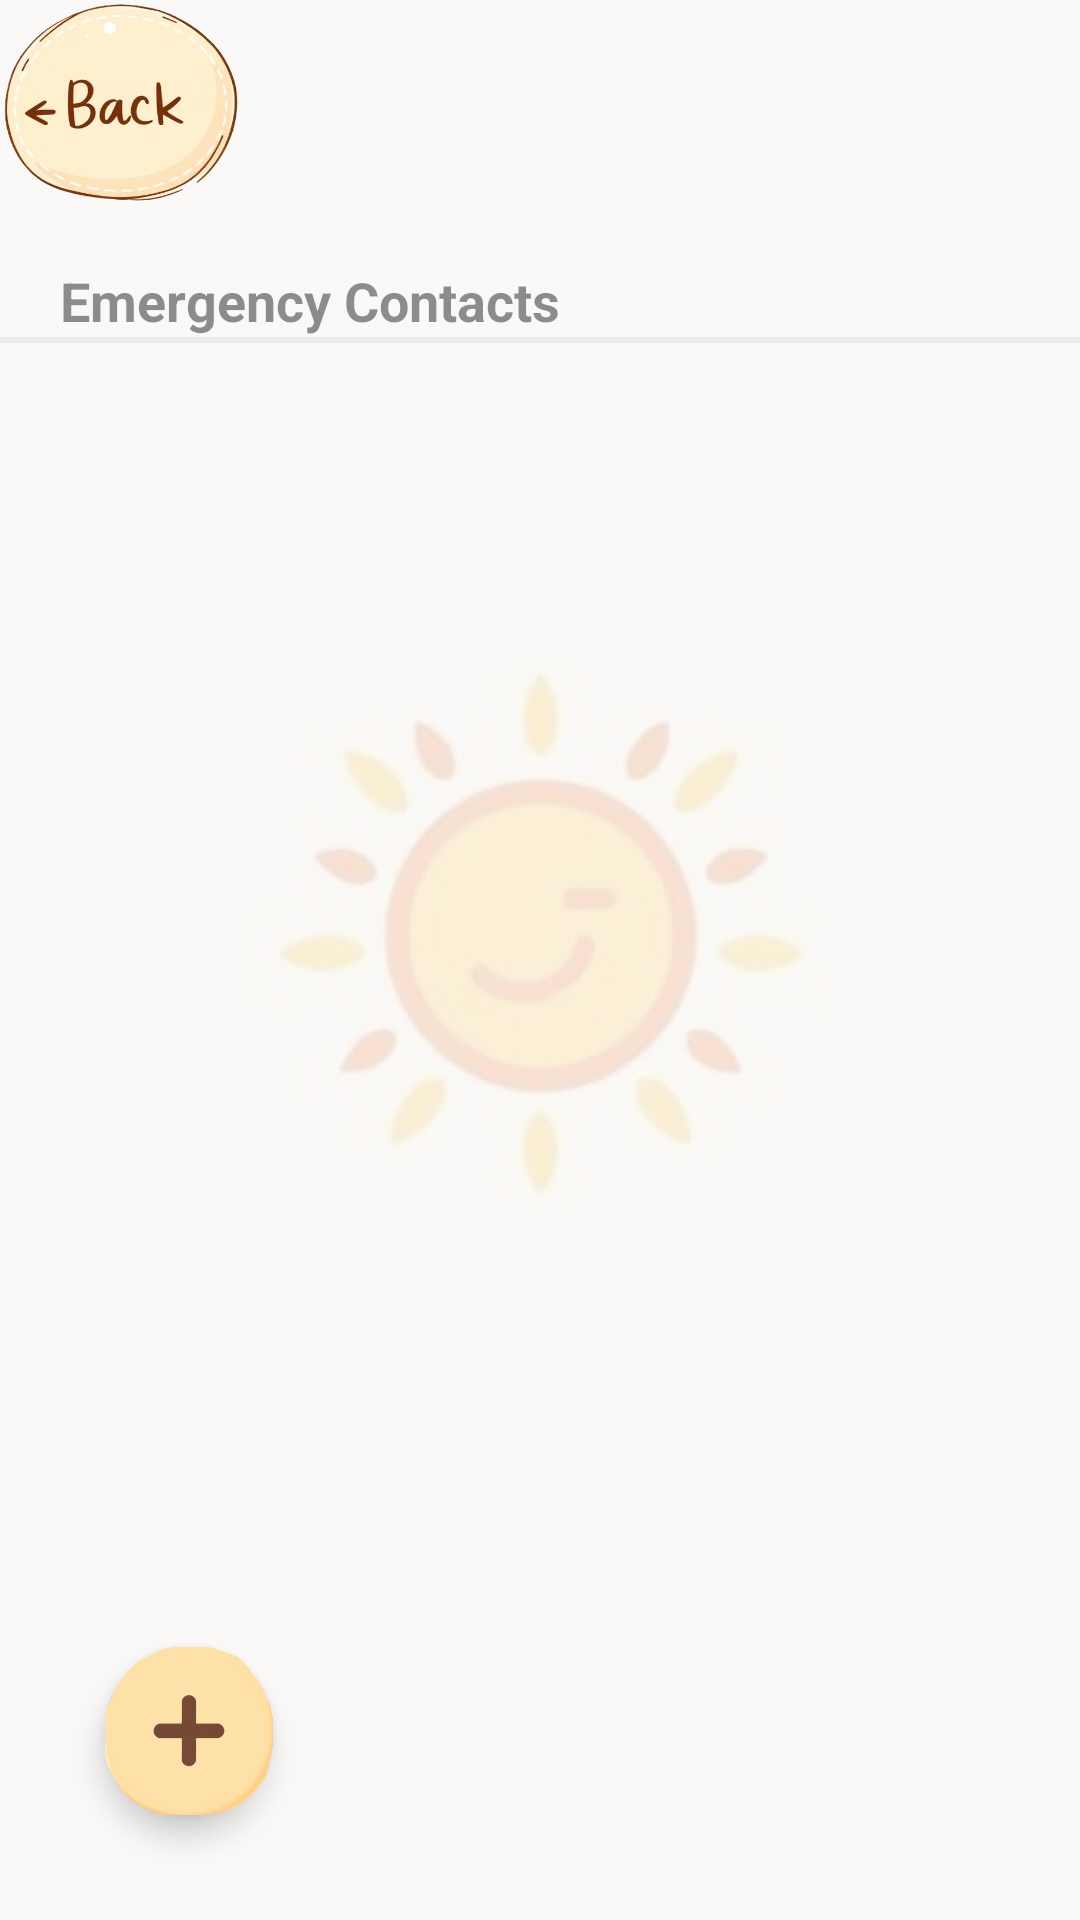

Screen size 1080 x 1920. Icon name, then its center in pixels as [x,y]:
Add items: [189,1731]
